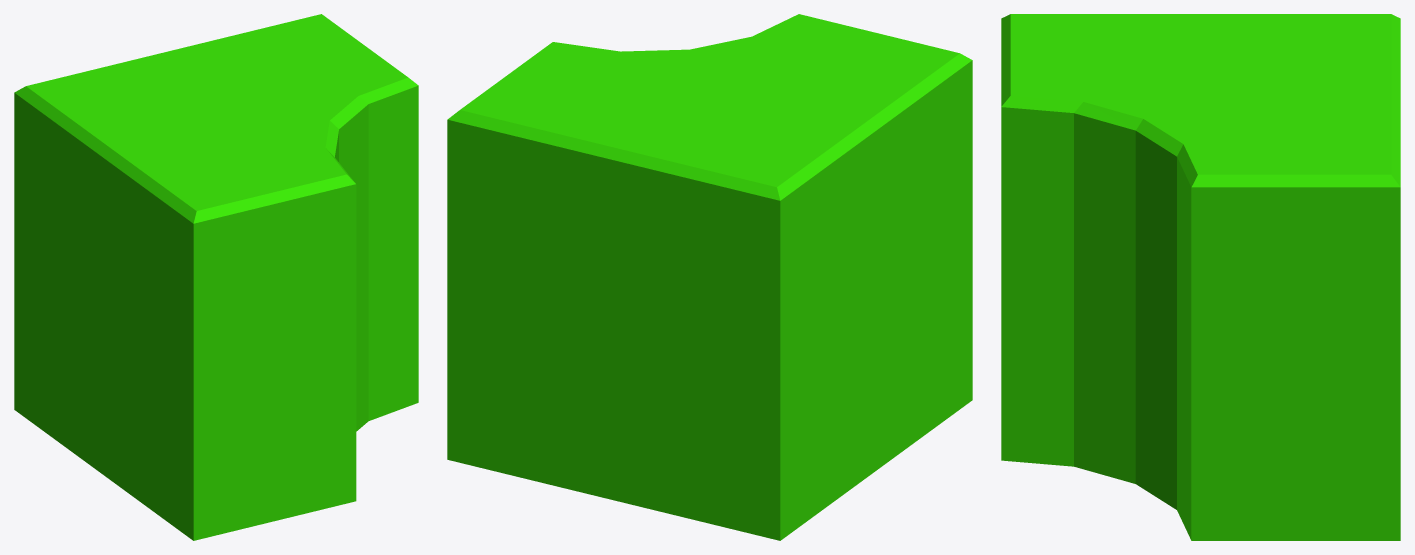
File: round_2x2_03.fbx
3 renders of one model, left to right at view 1: azimuth 30°, elevation 25°; view 2: azimuth 150°, elevation 25°; view 3: azimuth 270°, elevation 25°, orthographic. The views are drawn at different scales.
Parts seen in each view (by area): view 1: round_2x2_03; view 2: round_2x2_03; view 3: round_2x2_03.
Boxes of the visible parts, x1,y1,x2,y2 form: round_2x2_03: (14, 14, 418, 540); round_2x2_03: (447, 14, 972, 540); round_2x2_03: (1001, 14, 1400, 540).
Bounding box in the file's own units: 210 × 210 × 210.
